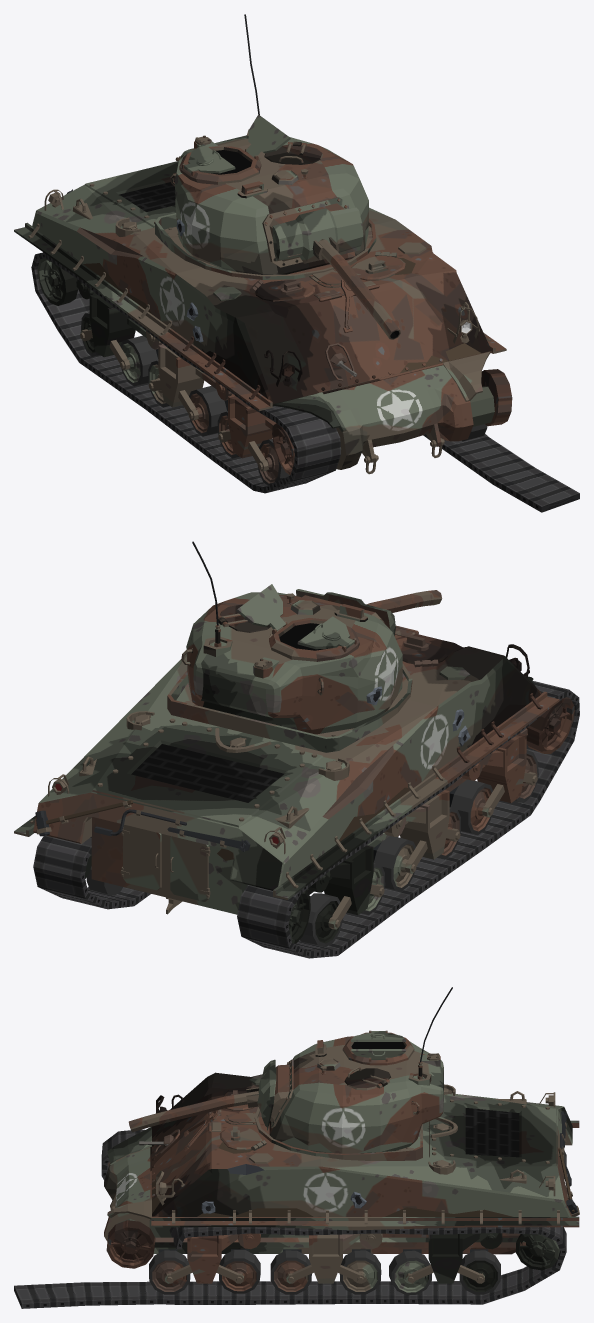
Rendered from SM_Veh_American_Tank_Destroyed_01.fbx.
3 views of the same model, one above another, from view 1: azimuth 30°, elevation 25°; view 2: azimuth 150°, elevation 25°; view 3: azimuth 270°, elevation 25° (orthographic). The views are drawn at different scales.
Parts seen in each view (by area): view 1: SM_Veh_American_Tank_Destroyed_01, Tread; view 2: SM_Veh_American_Tank_Destroyed_01, Tread; view 3: SM_Veh_American_Tank_Destroyed_01, Tread.
Part boxes in pixels (x1,y1,x2,y2): SM_Veh_American_Tank_Destroyed_01: (14,14,512,484); Tread: (31,252,579,512); SM_Veh_American_Tank_Destroyed_01: (14,541,574,946); Tread: (33,680,579,958); SM_Veh_American_Tank_Destroyed_01: (104,987,579,1295); Tread: (14,1129,566,1308).
Bounding box in the file's own units: 357 × 446 × 804.
